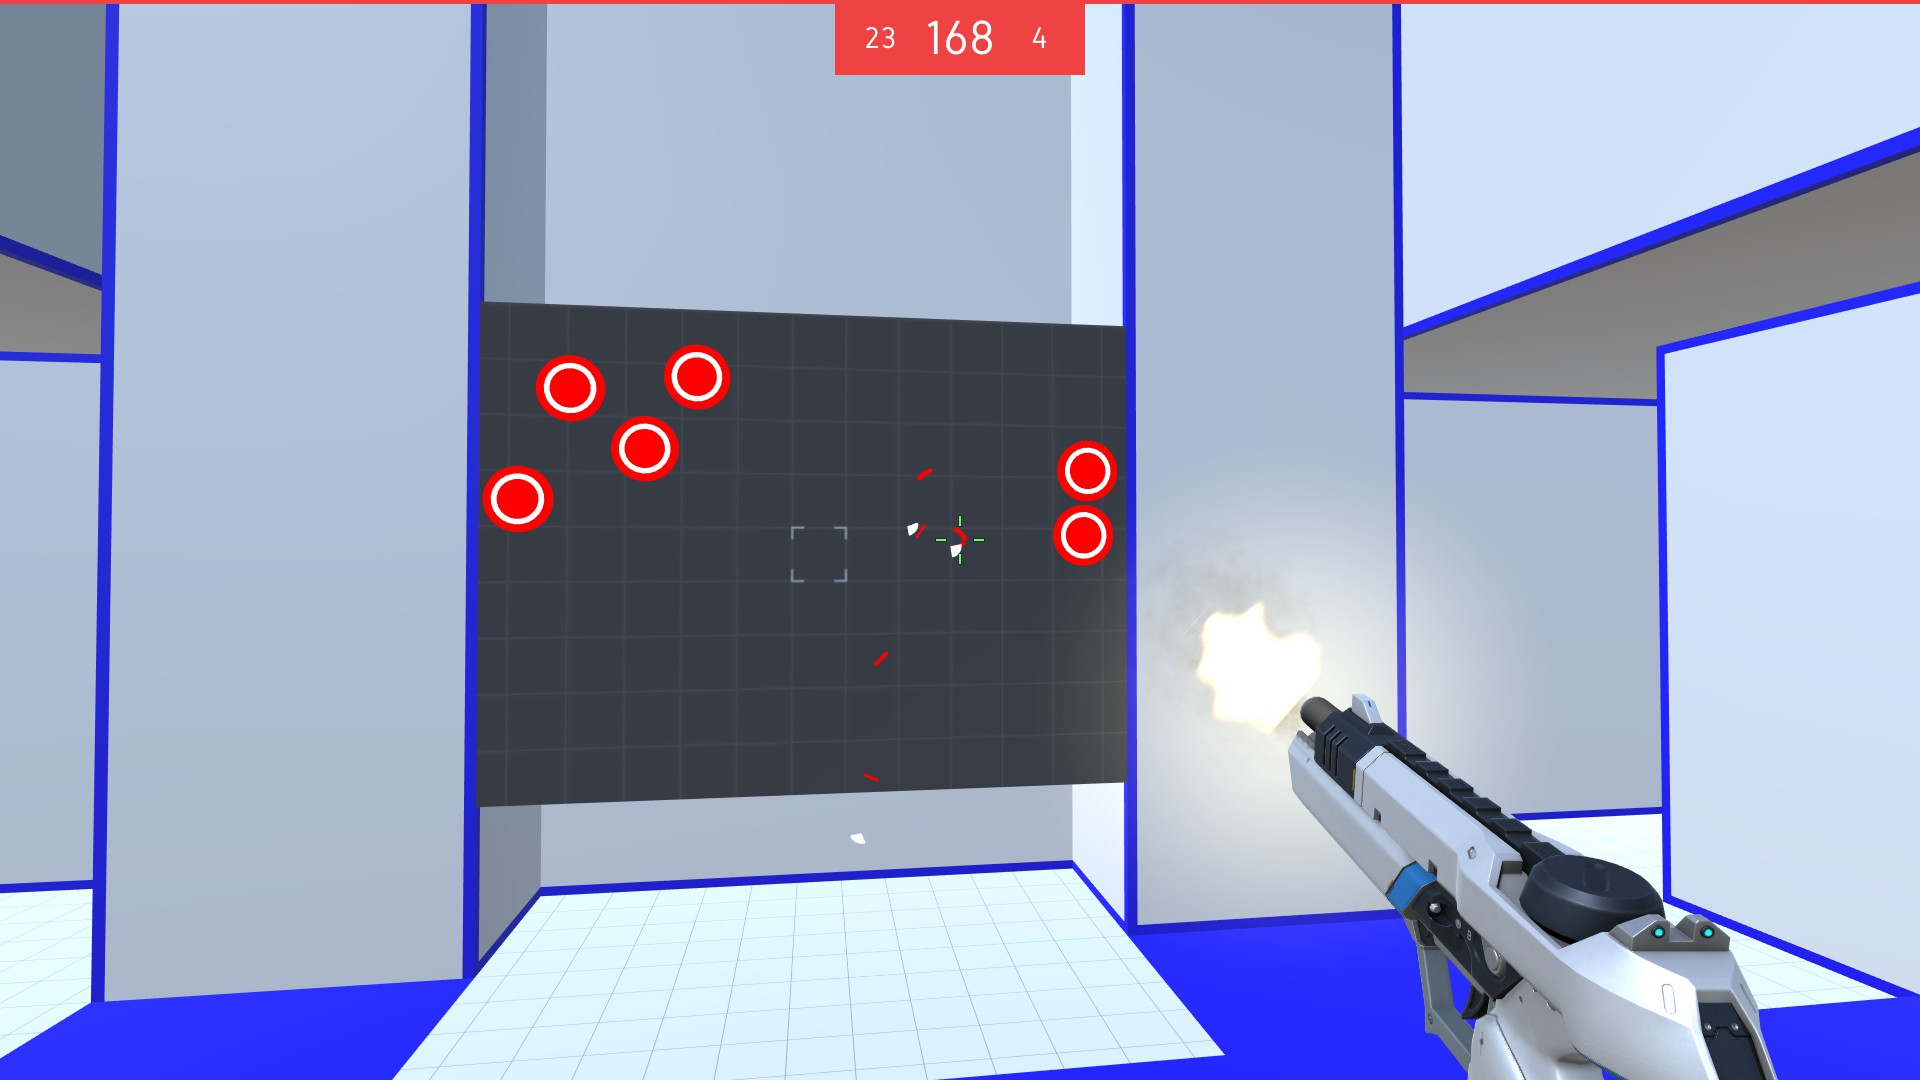target: (531, 347, 608, 426), (477, 462, 559, 535), (608, 413, 684, 487), (661, 343, 733, 415), (1048, 502, 1116, 575), (1052, 439, 1120, 502)
